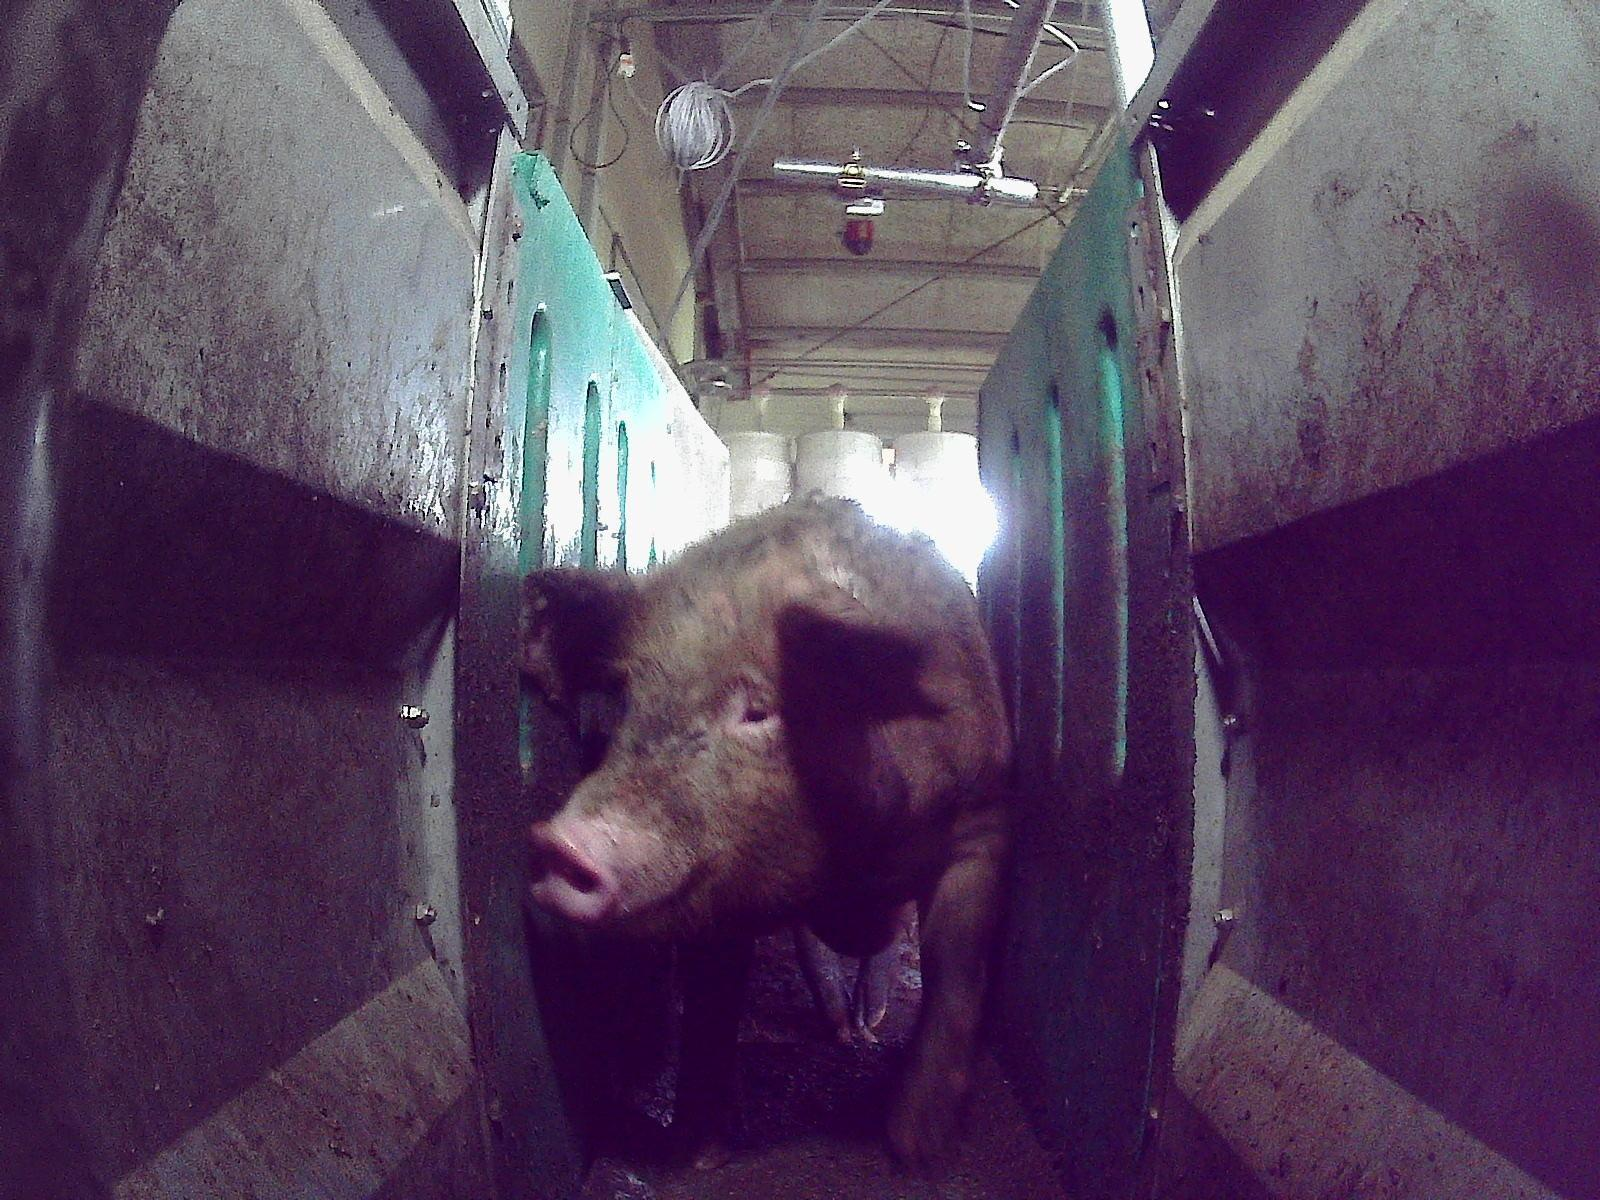Face: (521, 575, 847, 943)
